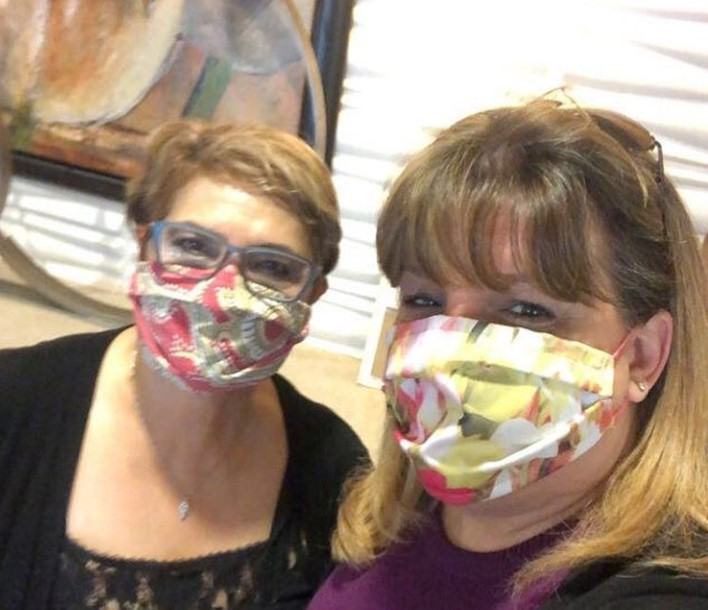face_with_mask: (375, 113, 677, 513), (128, 124, 333, 398)
